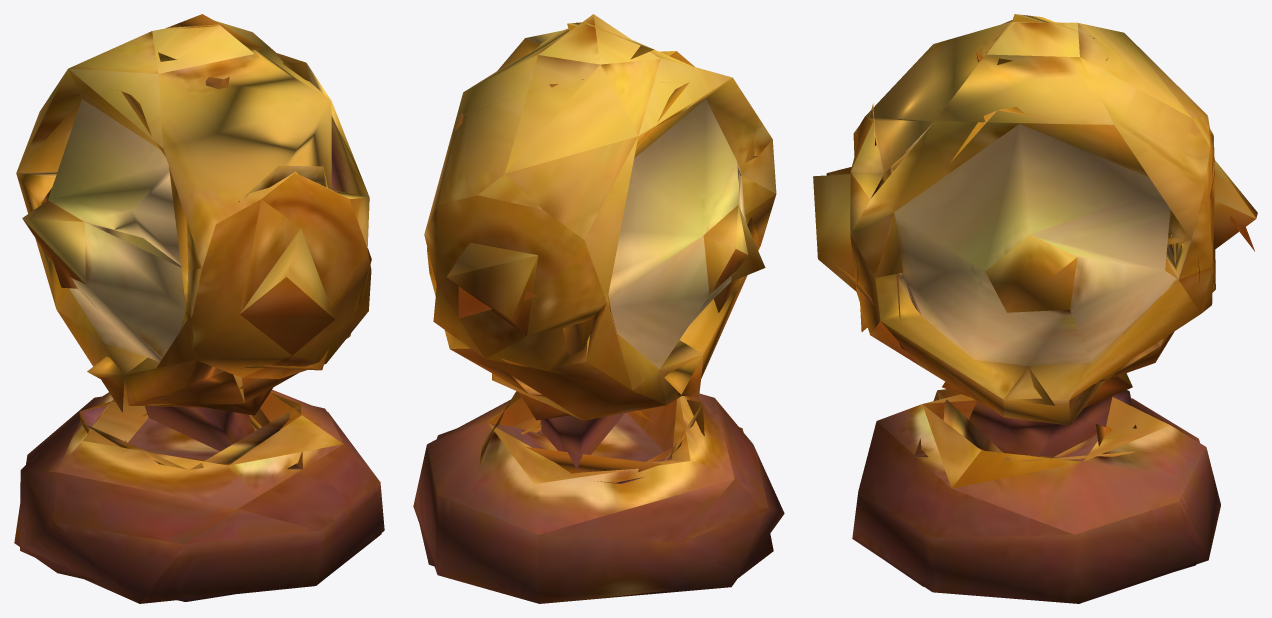
The model's file is lg-machine-heart.glb.
The picture shows the model from 3 angles, left to right: view 1: azimuth 30°, elevation 25°; view 2: azimuth 150°, elevation 25°; view 3: azimuth 270°, elevation 25°; orthographic projection.
Parts seen in each view (by area): view 1: geometry_0; view 2: geometry_0; view 3: geometry_0.
Part boxes in pixels (x1,y1,x2,y2): geometry_0: [14, 14, 384, 603]; geometry_0: [413, 14, 784, 603]; geometry_0: [813, 14, 1257, 603].
Bounding box in the file's own units: 0.6554 × 1 × 0.7831.
1 material, 1 textured.
